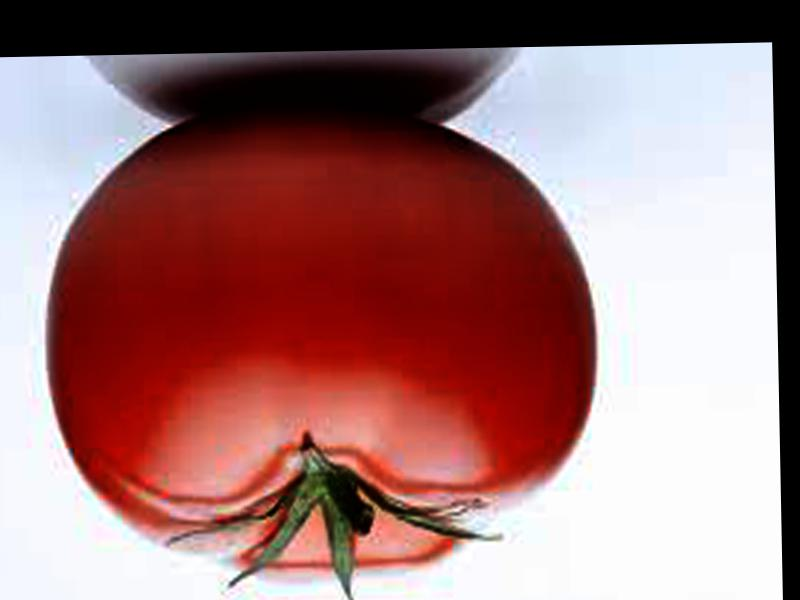Tomato: (41, 107, 597, 581)
